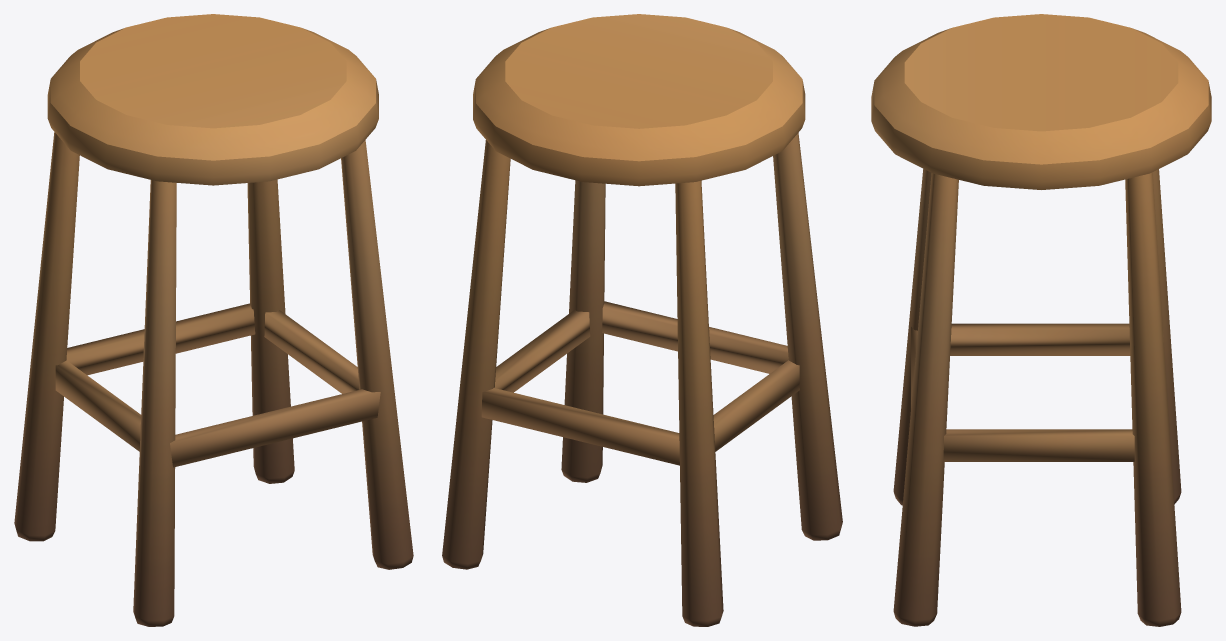
File: Msh_Banco.fbx
3 renders of one model, left to right at view 1: azimuth 30°, elevation 25°; view 2: azimuth 150°, elevation 25°; view 3: azimuth 270°, elevation 25°, orthographic. The views are drawn at different scales.
Parts seen in each view (by area): view 1: Msh_Banco004, Msh_Banco005, Msh_Banco000, Msh_Banco001, Msh_Banco002, Msh_Banco003; view 2: Msh_Banco004, Msh_Banco005, Msh_Banco002, Msh_Banco003, Msh_Banco000, Msh_Banco001; view 3: Msh_Banco004, Msh_Banco003, Msh_Banco001, Msh_Banco005, Msh_Banco000, Msh_Banco002.
Boxes of the visible parts, left/top/right/bottom form: Msh_Banco004: left=47, top=14, right=378, bottom=185; Msh_Banco005: left=55, top=303, right=380, bottom=467; Msh_Banco000: left=133, top=180, right=176, bottom=626; Msh_Banco001: left=341, top=140, right=413, bottom=569; Msh_Banco002: left=14, top=132, right=79, bottom=541; Msh_Banco003: left=247, top=179, right=294, bottom=483; Msh_Banco004: left=473, top=14, right=805, bottom=186; Msh_Banco005: left=481, top=301, right=799, bottom=465; Msh_Banco002: left=675, top=180, right=723, bottom=626; Msh_Banco003: left=442, top=140, right=510, bottom=569; Msh_Banco000: left=773, top=133, right=842, bottom=540; Msh_Banco001: left=561, top=180, right=605, bottom=482; Msh_Banco004: left=871, top=14, right=1211, bottom=189; Msh_Banco003: left=1125, top=172, right=1181, bottom=626; Msh_Banco001: left=893, top=173, right=958, bottom=626; Msh_Banco005: left=911, top=323, right=1163, bottom=461; Msh_Banco000: left=893, top=169, right=931, bottom=505; Msh_Banco002: left=1152, top=169, right=1181, bottom=504.
Size of the model in its own units: 47.46 by 74.46 by 46.74.
